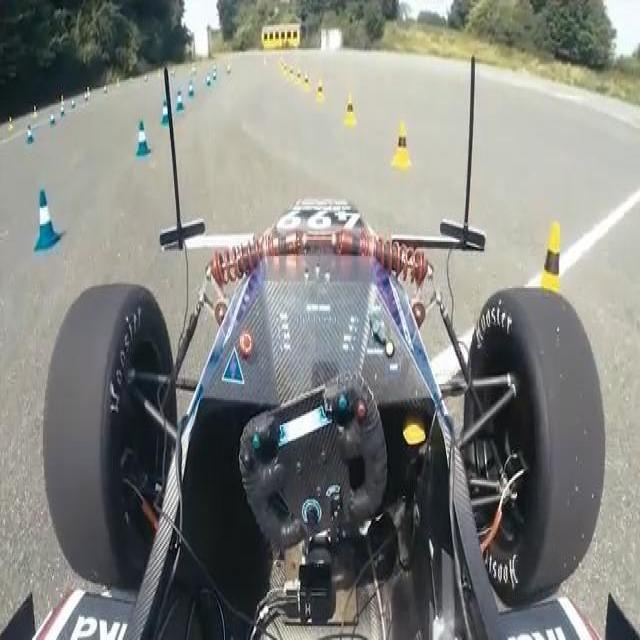blue_cone: (29, 187, 60, 252), (133, 121, 150, 159), (174, 85, 184, 113), (160, 98, 170, 125), (25, 121, 34, 147), (187, 76, 194, 98), (48, 110, 56, 129), (58, 103, 64, 121), (205, 75, 211, 92), (71, 96, 77, 110), (212, 70, 217, 84)
yellow_cone: (519, 213, 573, 354), (390, 117, 411, 170), (342, 93, 356, 129), (315, 80, 324, 106), (303, 73, 311, 94), (295, 70, 303, 90), (7, 116, 14, 134), (30, 103, 37, 120), (289, 66, 295, 85)
